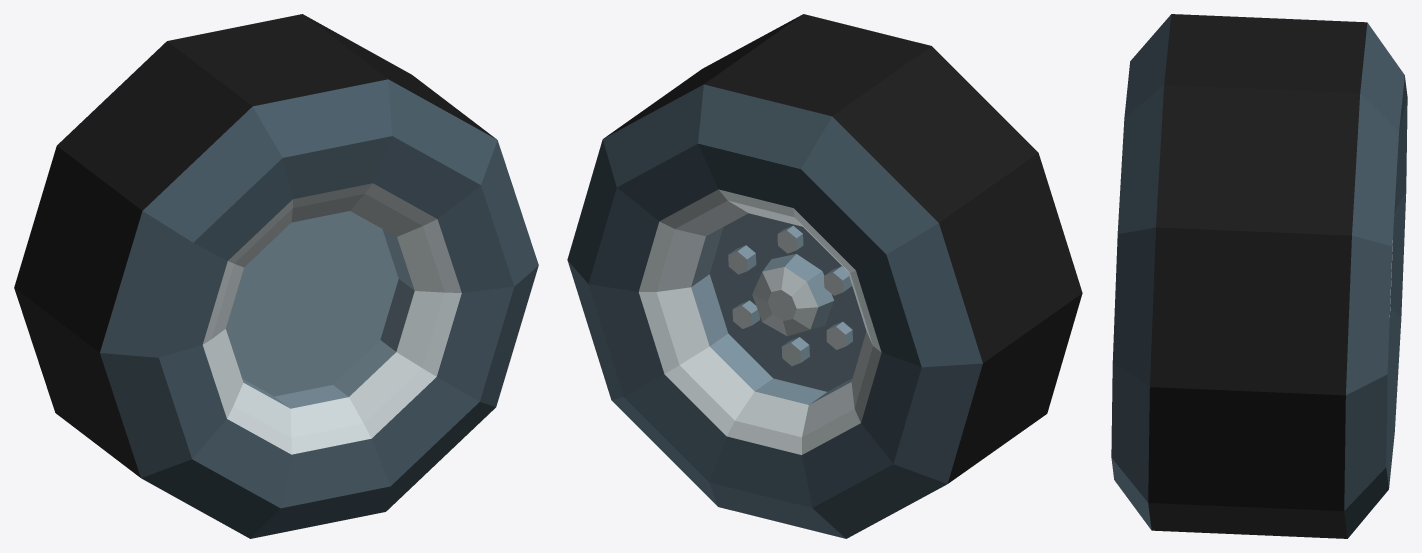
Rendered from buggytireback.glb.
The picture shows the model from 3 angles, left to right: view 1: azimuth 30°, elevation 25°; view 2: azimuth 150°, elevation 25°; view 3: azimuth 270°, elevation 25°; orthographic projection. The views are drawn at different scales.
Parts seen in each view (by area): view 1: group1863958756; view 2: group1863958756; view 3: group1863958756.
Part boxes in pixels (x1,y1,x2,y2): group1863958756: (14, 14, 538, 538); group1863958756: (567, 14, 1082, 538); group1863958756: (1111, 14, 1407, 538).
Size of the model in its own units: 0.6508 by 0.6193 by 0.3635.
